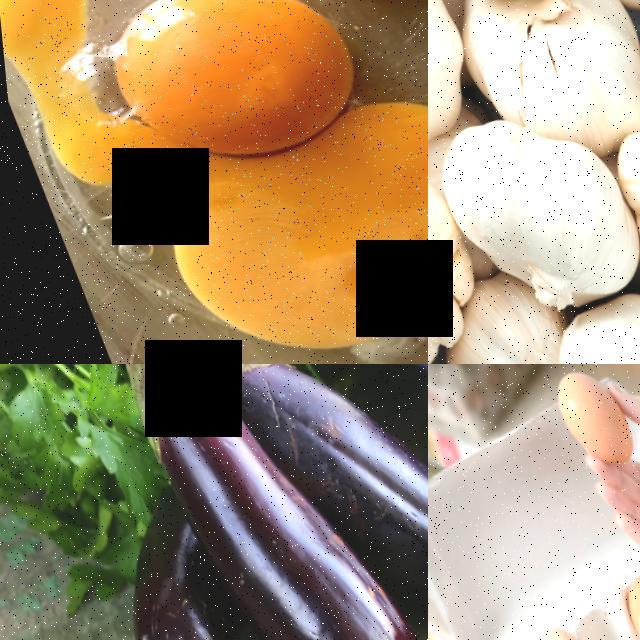egg_: (73, 0, 377, 191), (541, 364, 637, 472), (607, 563, 640, 633), (518, 614, 585, 640)
eggplant: (101, 364, 428, 640), (288, 364, 428, 640), (72, 487, 246, 640)
garlic: (428, 83, 640, 328), (437, 0, 640, 165), (428, 106, 490, 364), (591, 96, 640, 332)
